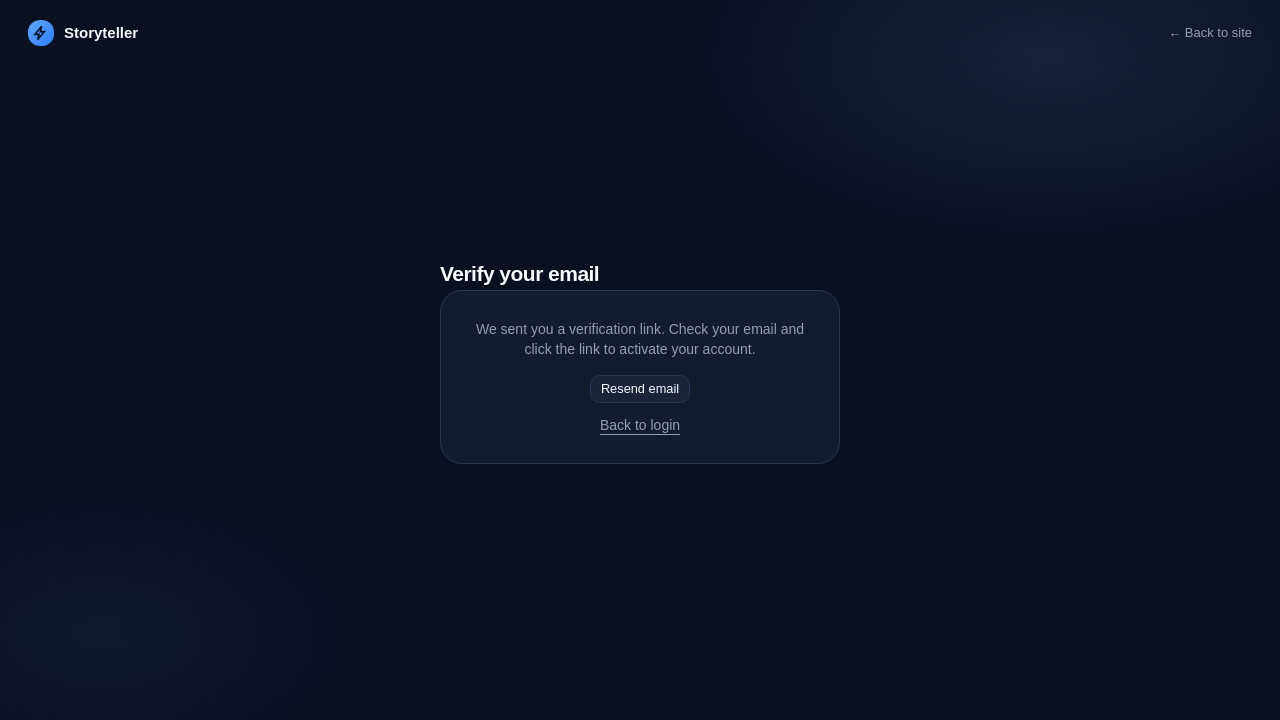
Test: VerifyEmailPage › resends verification email to the session user
The width and height of the screenshot is (1280, 720).
What coordinates should you click on to do the following:
click the button "Resend email"
I would click on:
 (640, 389)
Its box is [590, 375, 690, 403].
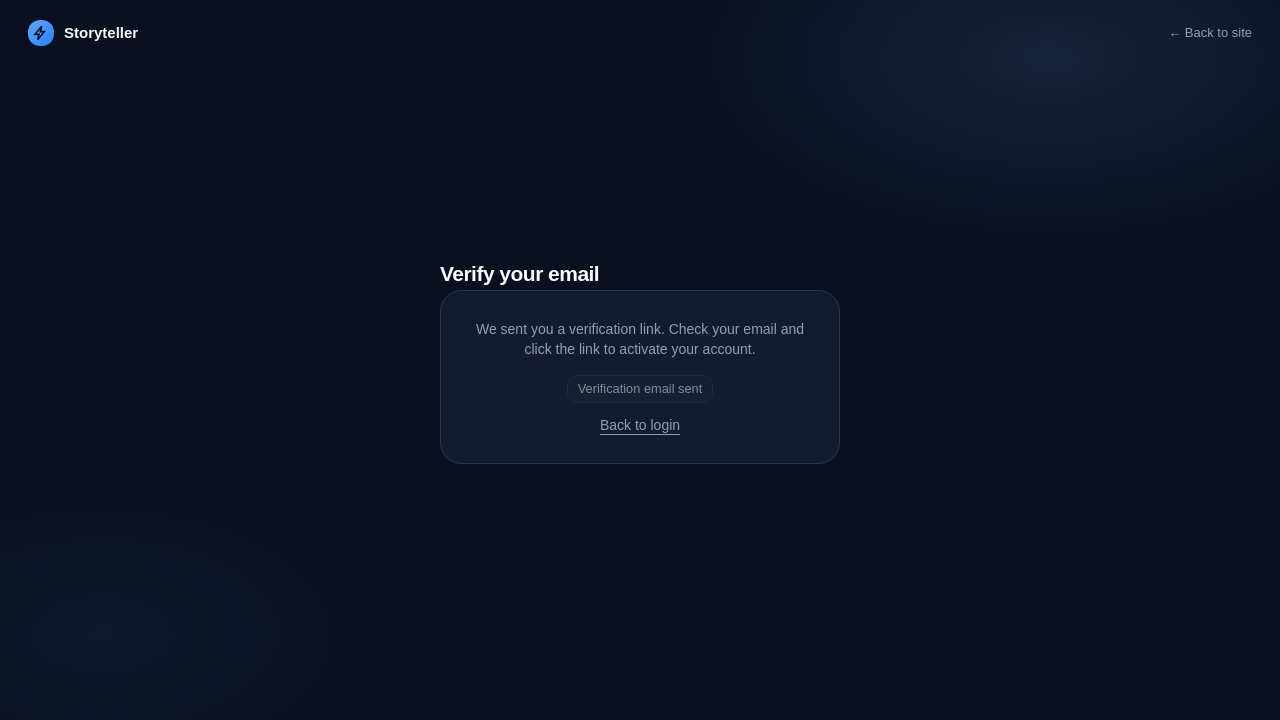
Now the button "Verification email sent" is shown, box [567, 375, 713, 403]
